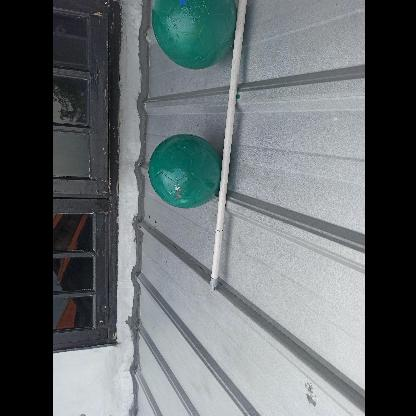green_ball: (154, 1, 238, 69), (146, 136, 220, 210)
